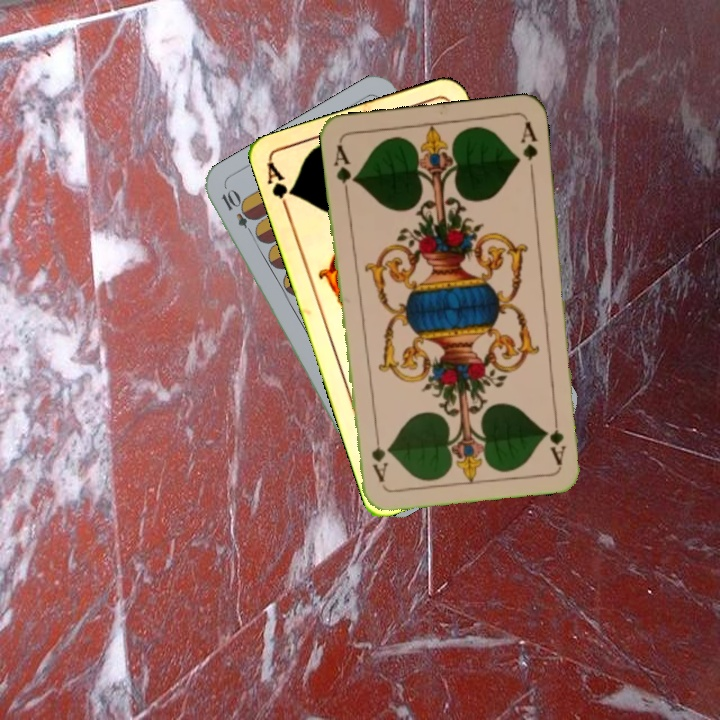E10: (217, 185, 259, 240)
GA: (263, 159, 297, 217), (329, 140, 359, 198), (546, 407, 568, 467)
